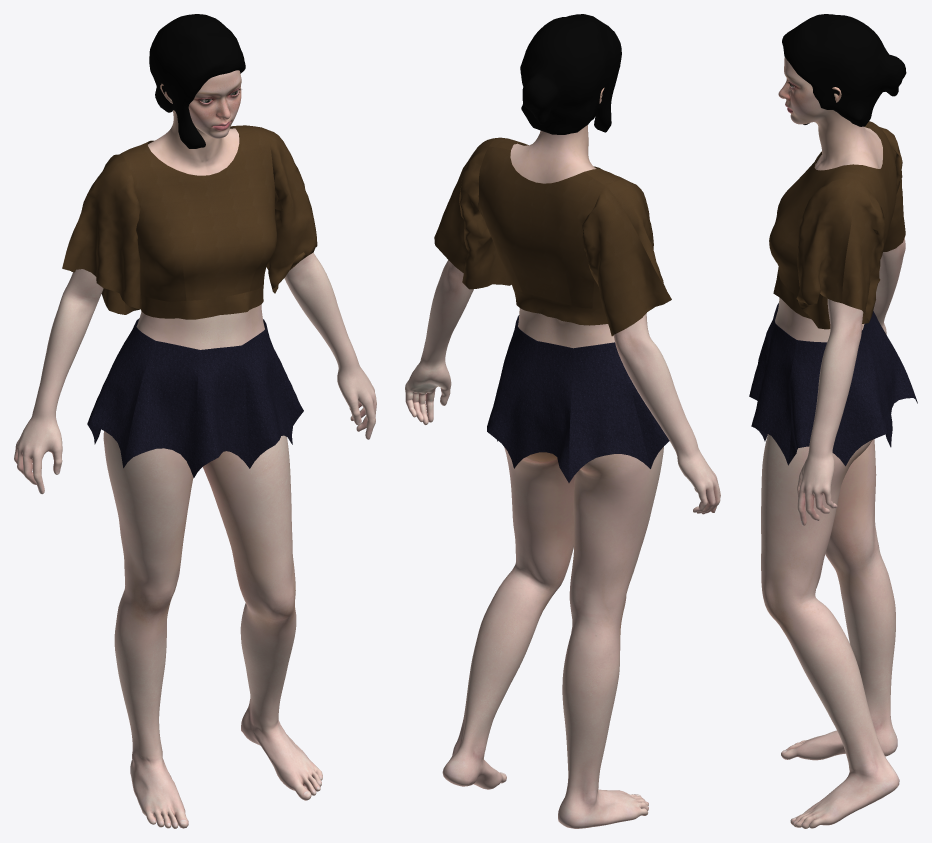
The model's file is Dramatic.obj.
3 renders of one model, left to right at view 1: azimuth 30°, elevation 25°; view 2: azimuth 150°, elevation 25°; view 3: azimuth 270°, elevation 25°, orthographic. The views are drawn at different scales.
Size of the model in its own units: 775 by 1773 by 354.
